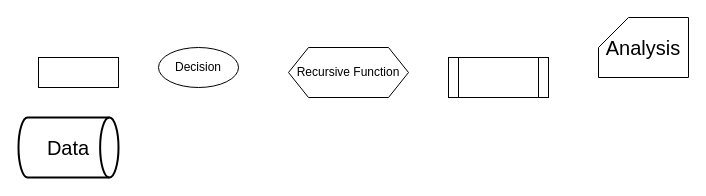
This 706x196 diagram has some shape labels left out. The shapes that lost their labels are listed below. From the top down, each one's box as (x1, y1, x2, y2) in pixels, then its label:
(38, 56, 118, 88): Basic Step
(448, 56, 548, 98): Loop
